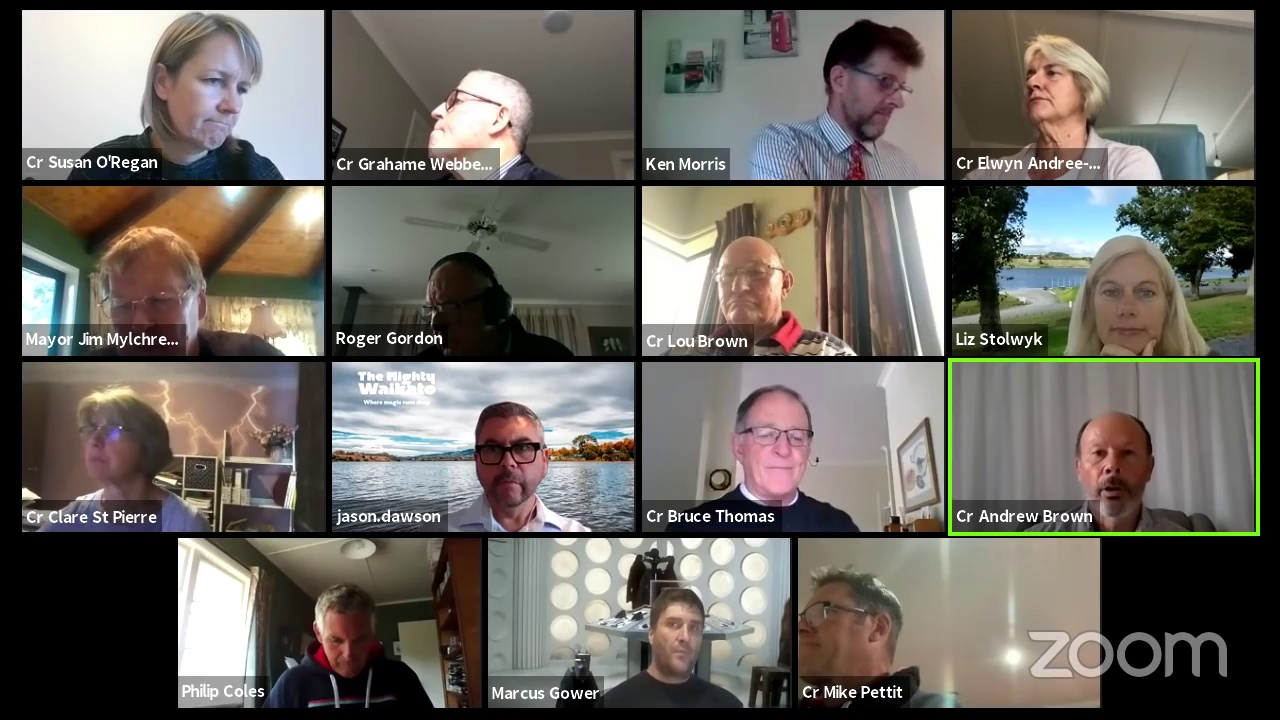Distracted: (802, 566, 906, 683), (824, 30, 915, 141), (425, 70, 536, 160), (75, 388, 167, 496), (1016, 38, 1113, 133), (422, 261, 515, 350), (306, 593, 381, 683)
Not Distracted: (142, 24, 254, 146), (1074, 243, 1190, 357), (1074, 237, 1180, 358), (467, 396, 558, 515), (731, 388, 817, 512), (97, 232, 197, 328), (711, 233, 804, 334), (1074, 412, 1153, 514), (638, 592, 710, 683)
